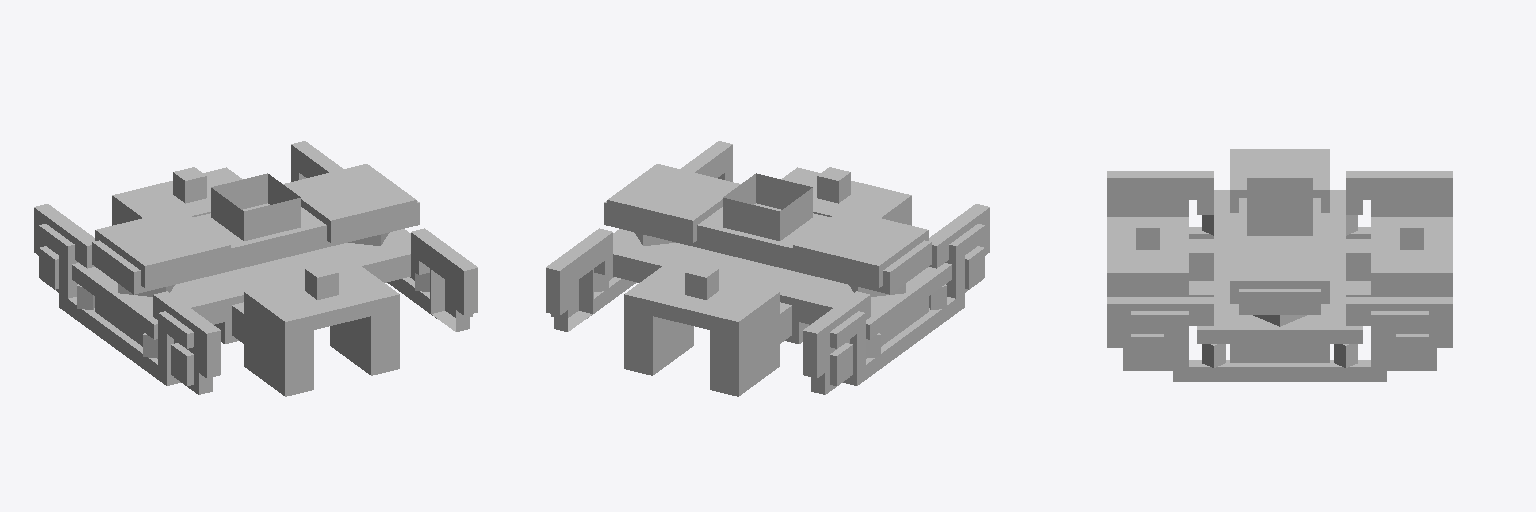
File: frame.obj
3 views of the same model, side by side, from view 1: azimuth 30°, elevation 25°; view 2: azimuth 150°, elevation 25°; view 3: azimuth 270°, elevation 25° (orthographic).
Visible parts, largest first — view 1: cube_22, cube_8, cube_15, cube_9, cube_19, cube_0, cube_11, cube_16, cube_6, cube_49, cube_54, cube_53 (+18 smaller); view 2: cube_22, cube_27, cube_15, cube_9, cube_28, cube_0, cube_11, cube_29, cube_6, cube_44, cube_54, cube_53 (+18 smaller); view 3: cube_15, cube_48, cube_22, cube_0, cube_43, cube_19, cube_28, cube_4, cube_39, cube_9, cube_44, cube_49 (+23 smaller).
Part boxes in pixels (x1,y1,x2,y2): cube_22: (95, 209, 230, 287); cube_8: (244, 285, 313, 396); cube_15: (283, 164, 416, 242); cube_9: (92, 201, 419, 294); cube_19: (330, 264, 399, 375); cube_0: (211, 173, 300, 240); cube_11: (197, 248, 349, 343); cube_16: (274, 277, 370, 329); cube_6: (72, 263, 157, 339); cube_49: (411, 228, 477, 292); cube_54: (59, 293, 180, 385); cube_53: (326, 237, 410, 282); cube_22: (793, 209, 928, 287); cube_27: (710, 285, 779, 396); cube_15: (607, 164, 740, 242); cube_9: (604, 201, 931, 294); cube_28: (624, 264, 693, 375); cube_0: (723, 173, 812, 240); cube_11: (674, 248, 826, 343); cube_29: (653, 277, 749, 329); cube_6: (866, 263, 951, 339); cube_44: (546, 228, 612, 292); cube_54: (843, 293, 964, 385); cube_53: (613, 237, 697, 282); cube_15: (1230, 239, 1329, 303); cube_48: (1173, 360, 1386, 381); cube_22: (1230, 149, 1329, 212); cube_0: (1247, 178, 1312, 235); cube_43: (1197, 319, 1362, 343); cube_19: (1107, 259, 1188, 296); cube_28: (1371, 259, 1452, 296); cube_4: (1346, 171, 1452, 199); cube_39: (1107, 171, 1213, 199); cube_9: (1239, 198, 1320, 314); cube_44: (1346, 297, 1452, 325); cube_49: (1107, 297, 1213, 325).
Bounding box in the file's own units: 2.55 × 1.06 × 2.62.